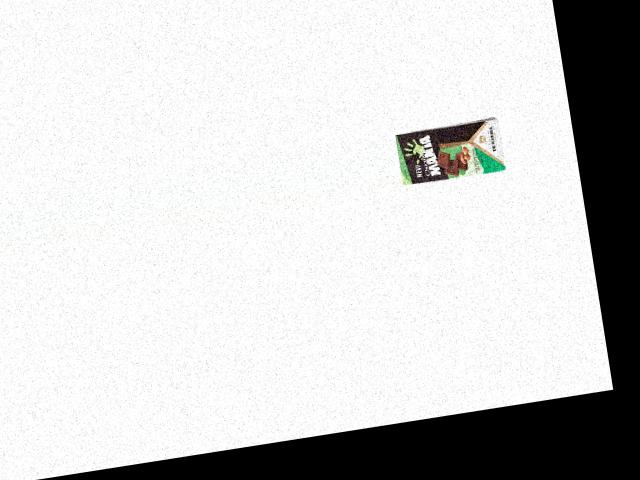chocolate: (392, 115, 508, 189)
